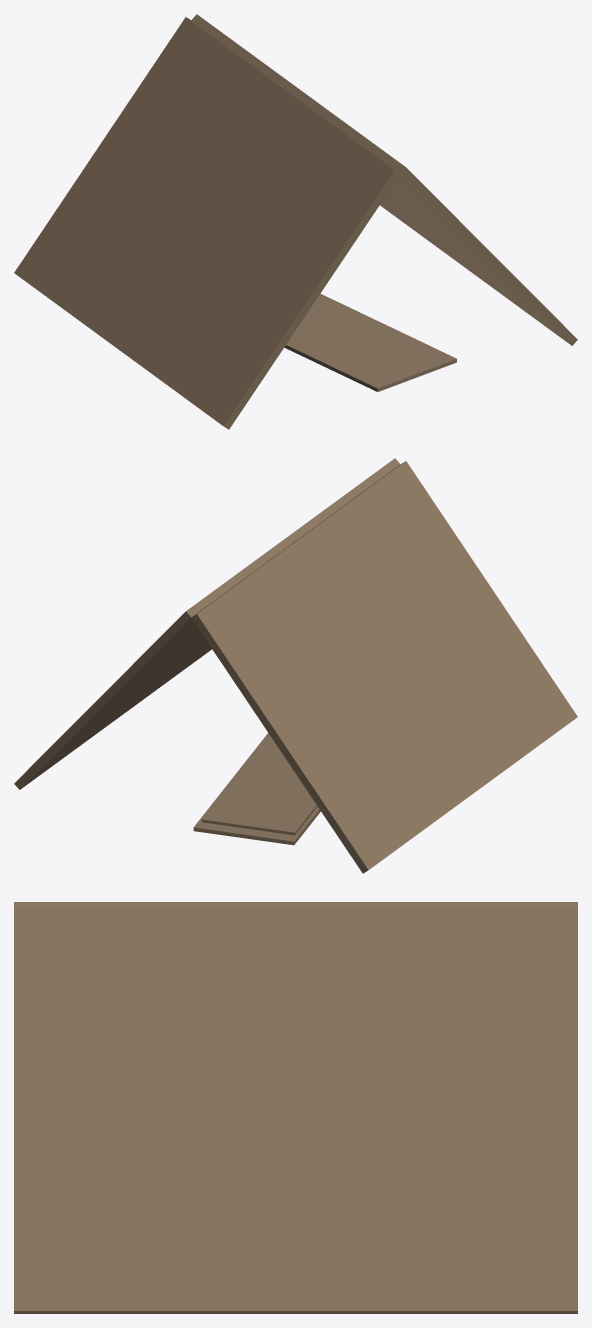
File: SM_Hut-3_Other_01.fbx
The picture shows the model from 3 angles, top to bottom: view 1: azimuth 30°, elevation 25°; view 2: azimuth 150°, elevation 25°; view 3: azimuth 270°, elevation 25°; orthographic projection. The views are drawn at different scales.
Parts seen in each view (by area): view 1: pasted__pCube20; view 2: pasted__pCube20; view 3: pasted__pCube20.
Part boxes in pixels (x1=…): pasted__pCube20: x1=14, y1=14, x2=577, y2=429; pasted__pCube20: x1=14, y1=458, x2=577, y2=873; pasted__pCube20: x1=14, y1=902, x2=577, y2=1313.
Bounding box in the file's own units: 3.86 × 2.28 × 3.94.
